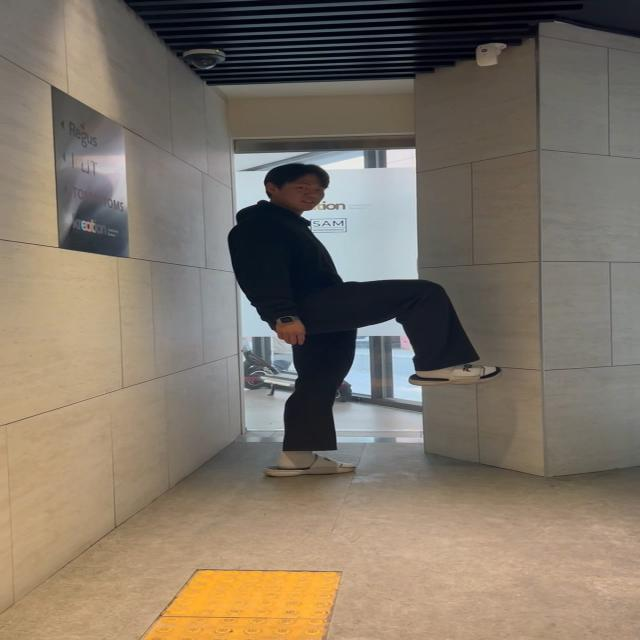knee: (316, 259, 531, 416)
